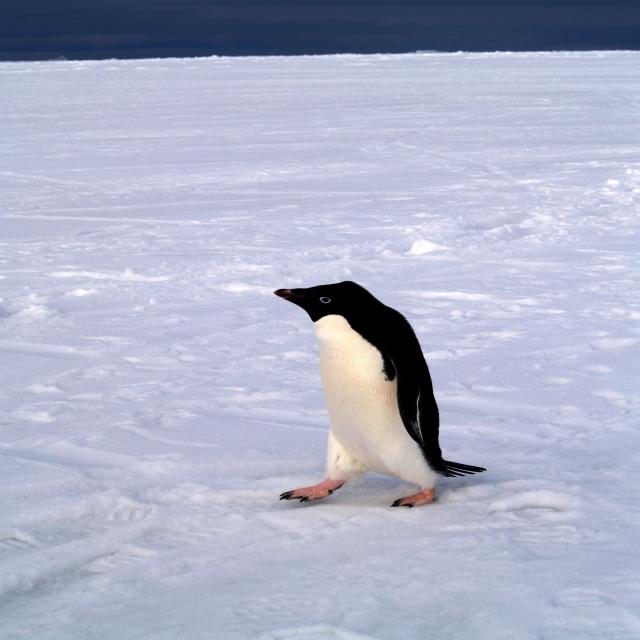Penguins: (262, 273, 475, 519)
